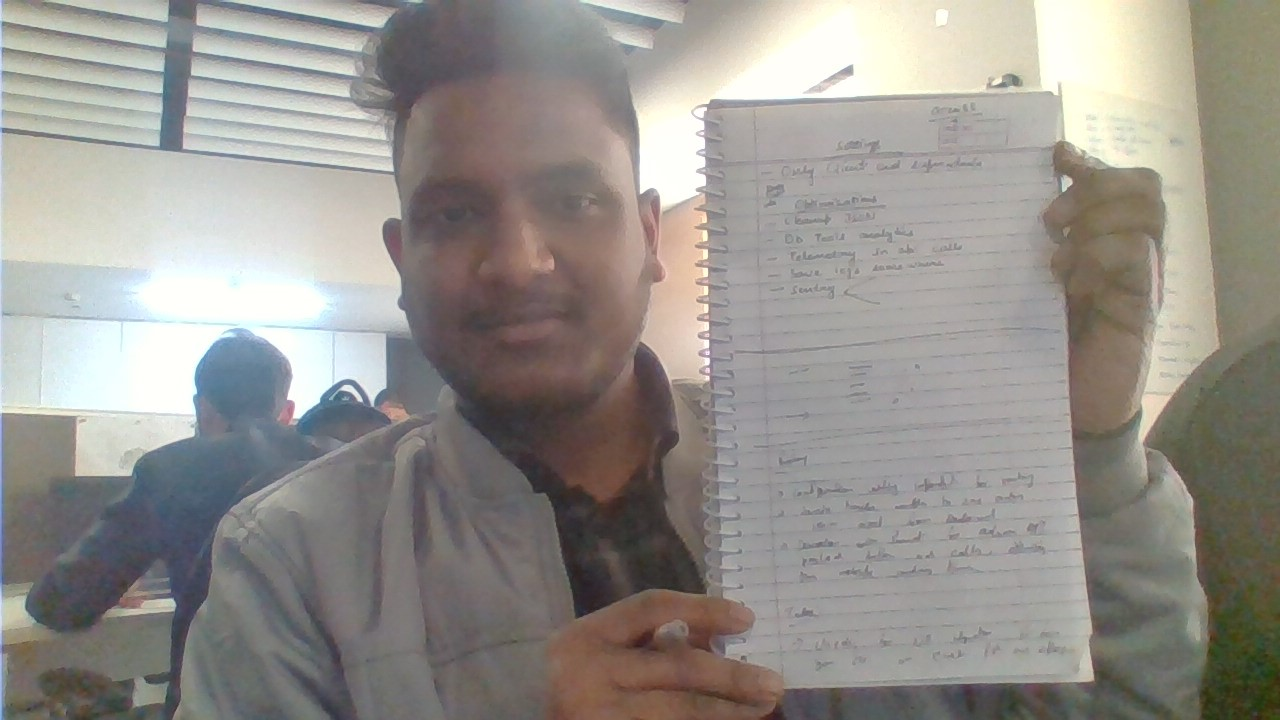notebook: (693, 86, 1102, 690)
